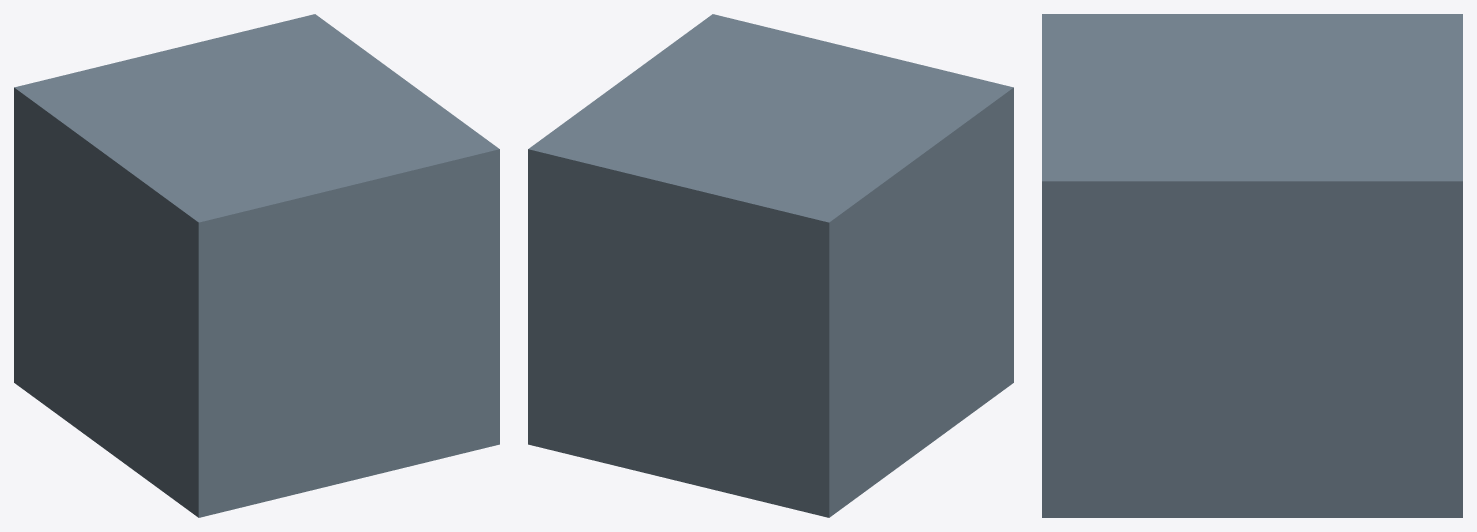
Rendered from lounge-chair-01.glb.
The picture shows the model from 3 angles, left to right: view 1: azimuth 30°, elevation 25°; view 2: azimuth 150°, elevation 25°; view 3: azimuth 270°, elevation 25°; orthographic projection. The views are drawn at different scales.
Size of the model in its own units: 0.8 by 0.75 by 0.85.
